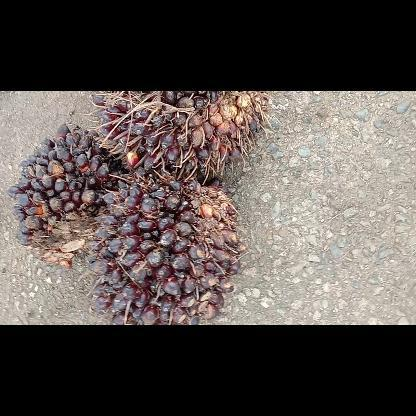TBS mentah: (90, 174, 244, 324), (6, 123, 119, 265), (90, 90, 264, 180)
